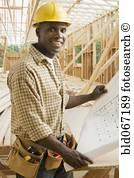helmet: (32, 2, 73, 25)
